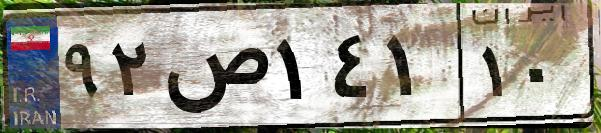0: (525, 38, 570, 115)
1: (270, 28, 330, 110), (385, 28, 445, 110), (475, 38, 525, 113)
2: (110, 28, 158, 98)
4: (330, 28, 385, 110)
9: (57, 26, 110, 100)
ص: (158, 20, 270, 120)
